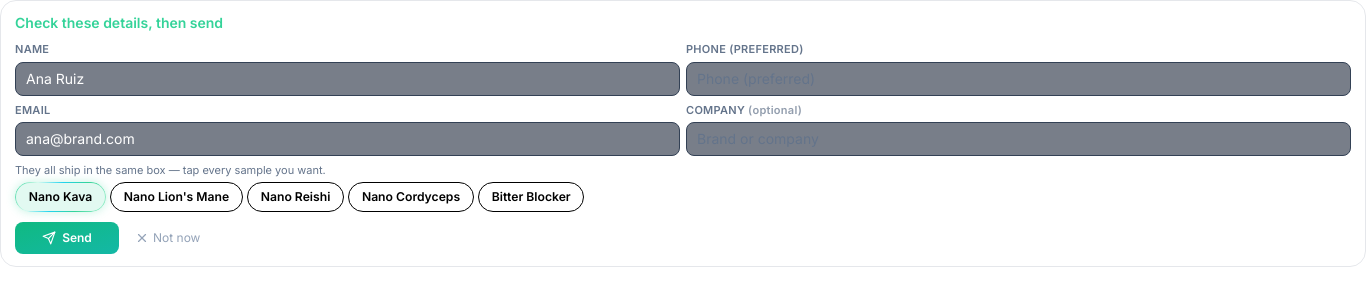
it: what blocks the send › then asks for at least one line
The image size is (1366, 306).
Click the button "Nano Kava": (61, 197) [15,182,106,212]
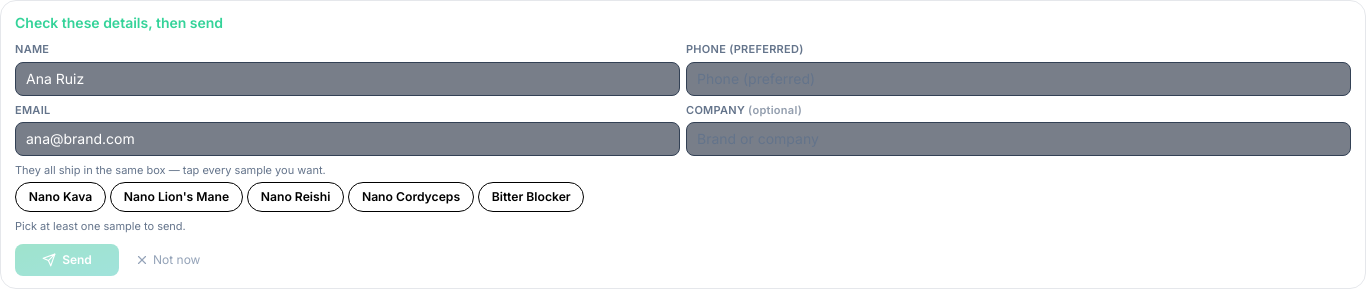
Expected: the button "Send" is disabled, [15,244,119,276]
Expected: the text "Pick at least one sample to send." is shown, [15,219,186,233]
